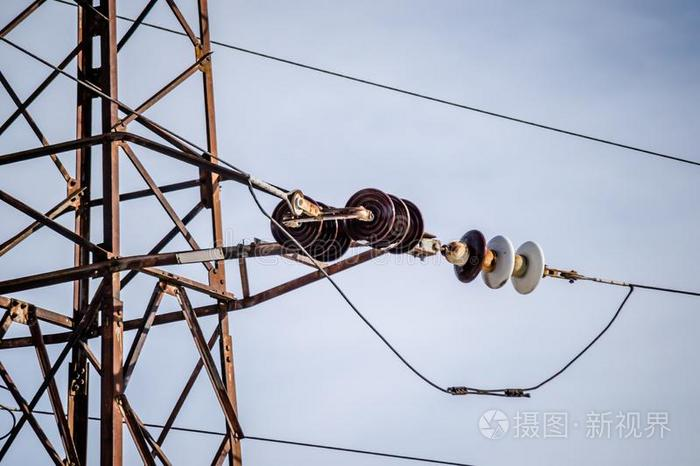insulator: (447, 226, 548, 297), (264, 196, 352, 263), (346, 187, 427, 250)
